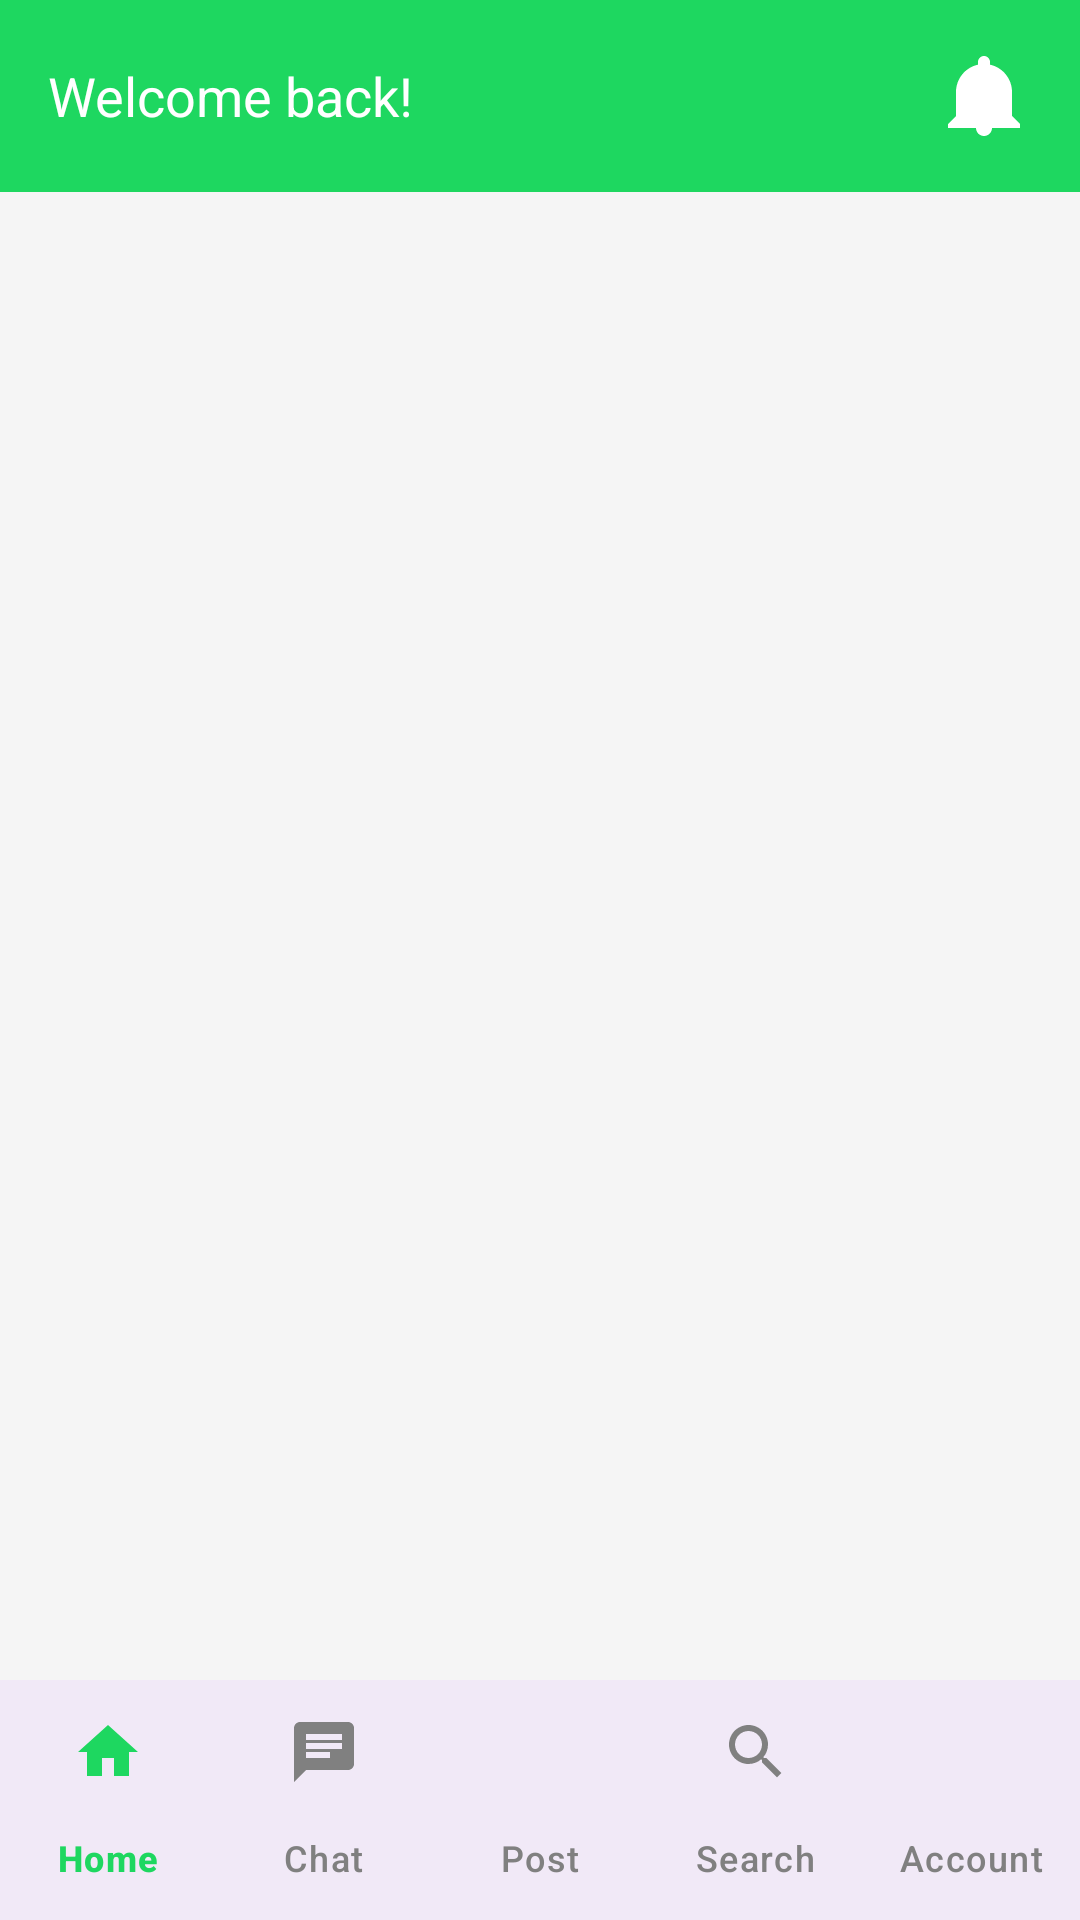

Where to tap for icons on this 1080 × 1920 app screen, as point (x, y):
notifications: point (984, 96)
